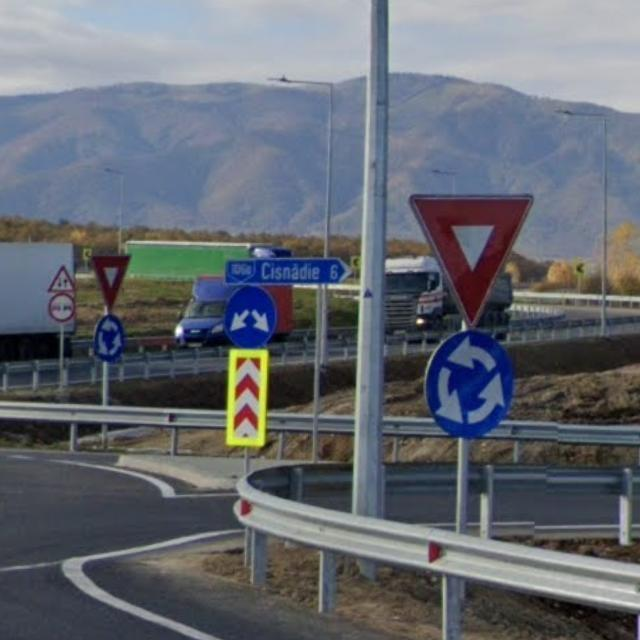forb_overtake: (48, 292, 76, 323)
prio_give_way: (411, 193, 534, 331), (89, 254, 131, 313)
